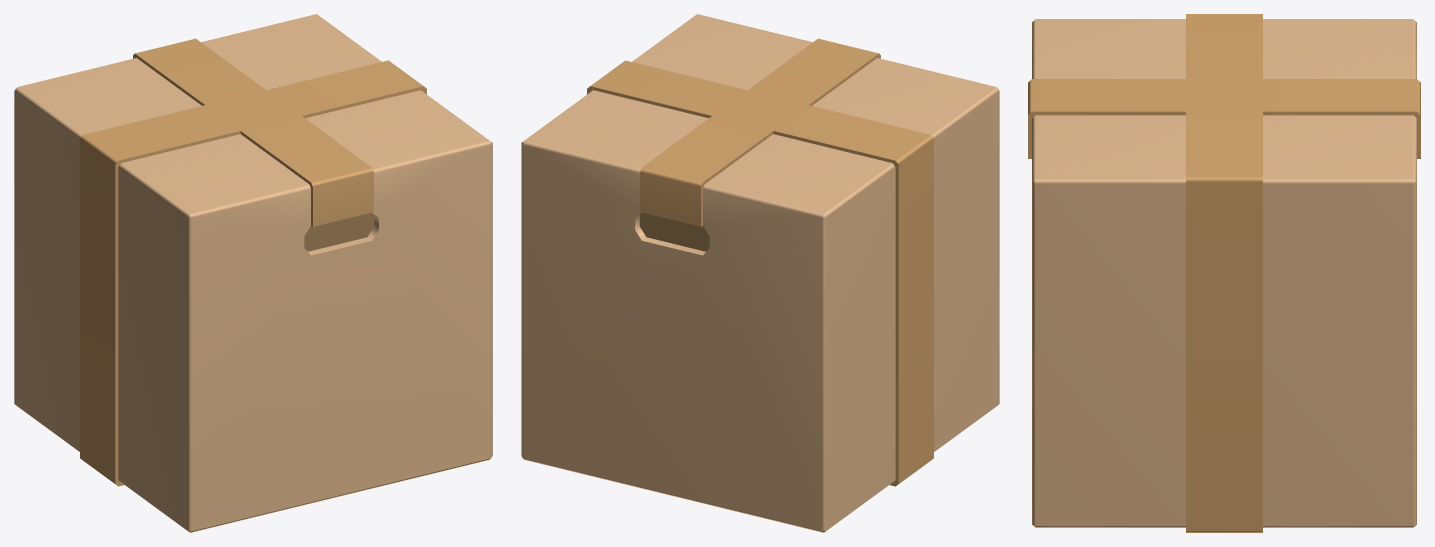
File: Small_box.fbx
The picture shows the model from 3 angles, left to right: view 1: azimuth 30°, elevation 25°; view 2: azimuth 150°, elevation 25°; view 3: azimuth 270°, elevation 25°; orthographic projection. The views are drawn at different scales.
Parts seen in each view (by area): view 1: Small_box; view 2: Small_box; view 3: Small_box.
Boxes of the visible parts, x1,y1,x2,y2 form: Small_box: [14, 14, 492, 532]; Small_box: [521, 14, 999, 532]; Small_box: [1028, 14, 1420, 532].
Size of the model in its own units: 0.4585 by 0.4585 by 0.4585.
